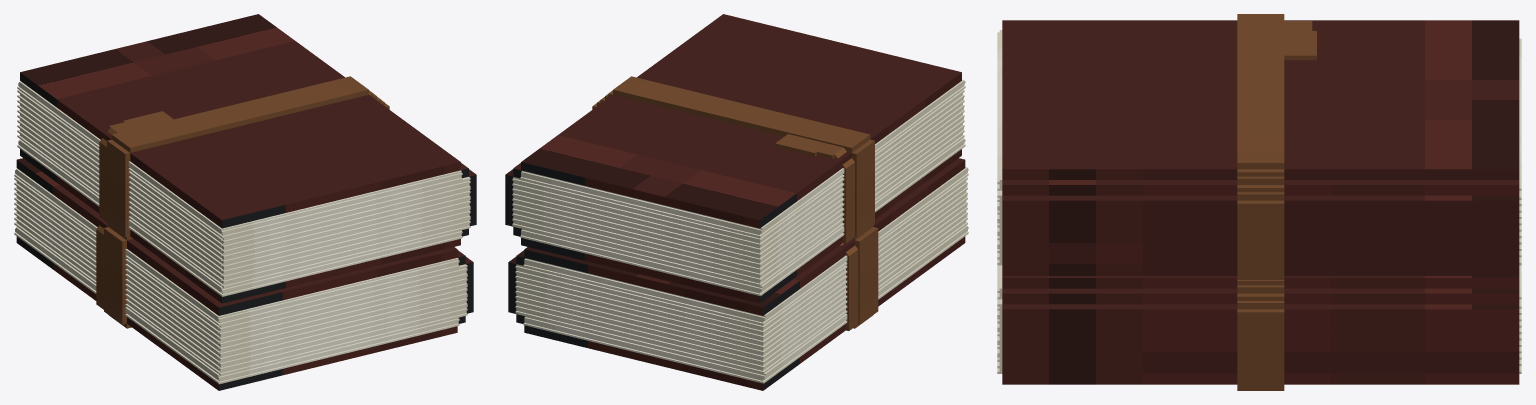
Rendered from stack_of_books_2.gltf.
3 renders of one model, left to right at view 1: azimuth 30°, elevation 25°; view 2: azimuth 150°, elevation 25°; view 3: azimuth 270°, elevation 25°, orthographic. The views are drawn at different scales.
Parts seen in each view (by area): view 1: cube (×92); view 2: cube (×70); view 3: cube (×17).
Boxes of the visible parts, box(x1,y1,x2,y2) form: cube (×92): box(14, 14, 476, 390); cube (×70): box(505, 14, 968, 390); cube (×17): box(997, 14, 1521, 384).
Size of the model in its own units: 0.525 by 0.3375 by 0.6969.
Materials: 3 (3 with a texture image).
